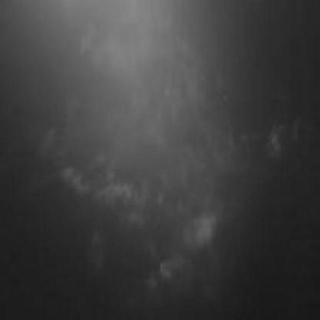Fire: (7, 7, 295, 287)
